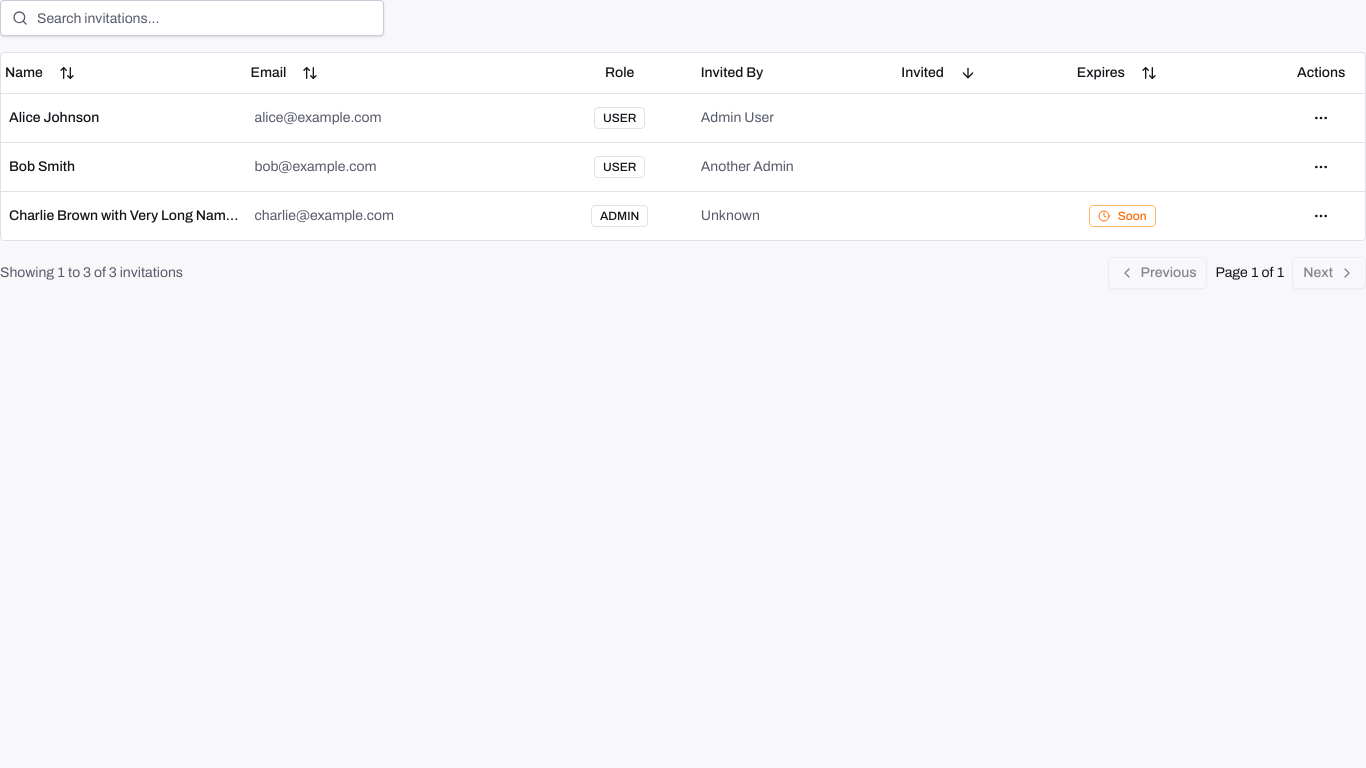
Test case: components/admin/invitation-table › delete invitation action › should open delete confirmation dialog
Note: Open actions menu for first invitation
Click the button named "open menu" in the row of "Alice Johnson": (1321, 118) x1=1305 y1=102 x2=1337 y2=134
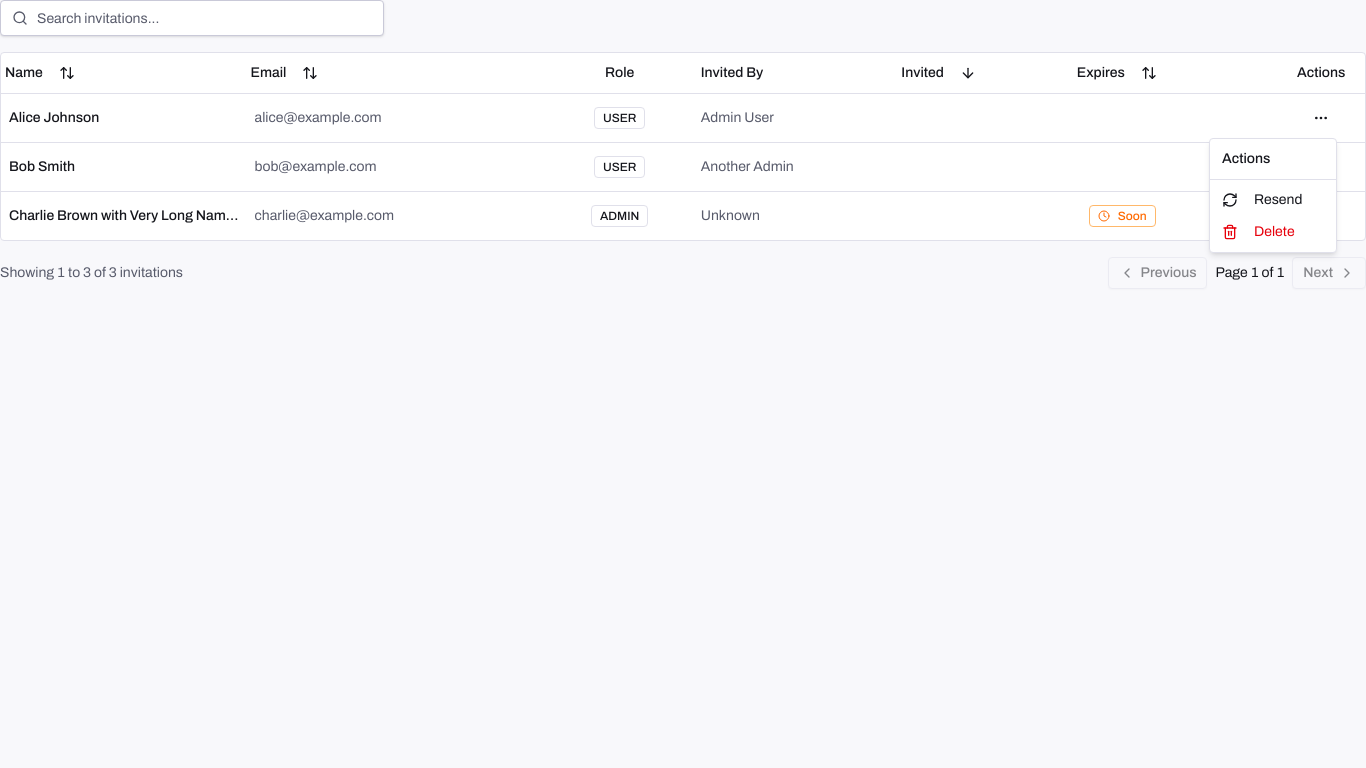
Note: Click delete
Click the menu item "Delete": (1258, 232) x1=1222 y1=224 x2=1295 y2=240
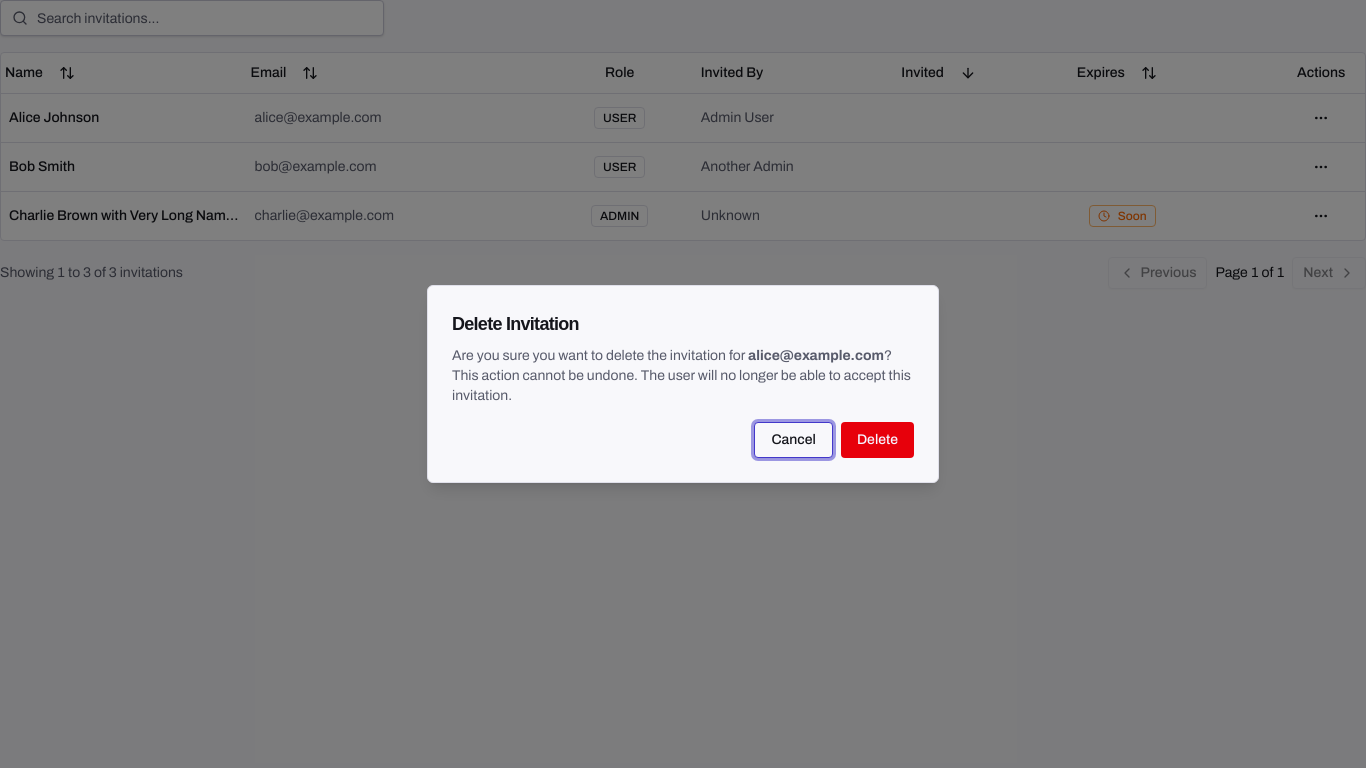
expect the heading "Delete Invitation" is shown: met, box x1=452 y1=314 x2=579 y2=334
expect the text "Are you sure you want to delete the invitation for" is shown: met, box x1=452 y1=348 x2=748 y2=363
